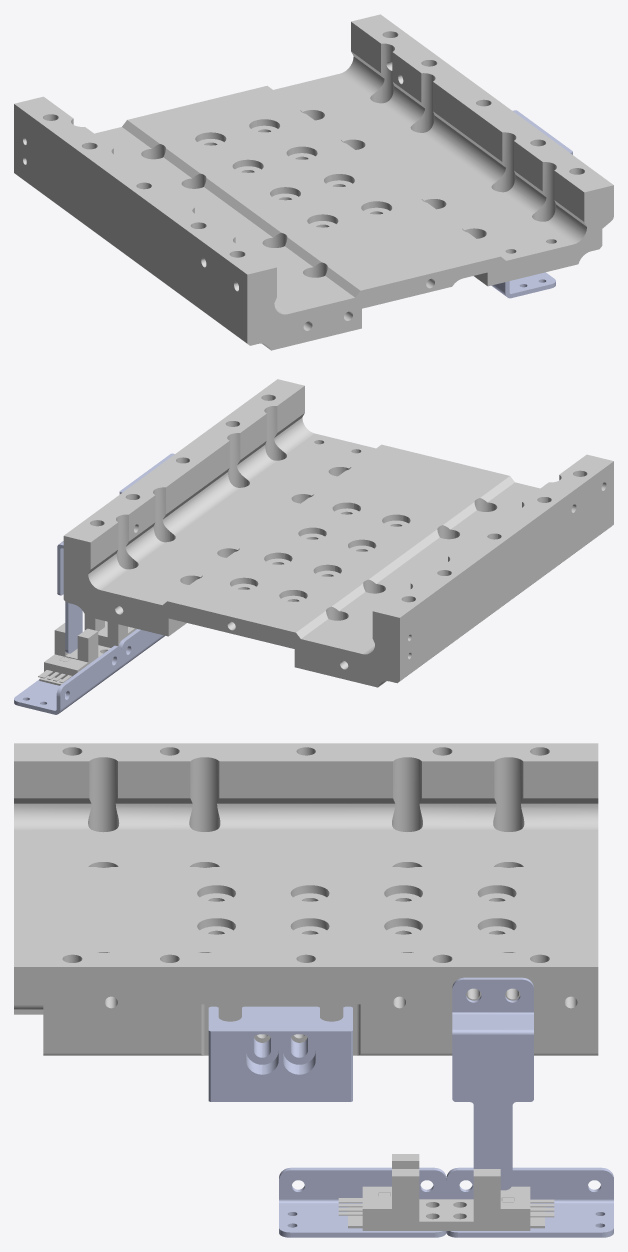
File: MTA-6.glb
3 renders of one model, top to bottom at view 1: azimuth 30°, elevation 25°; view 2: azimuth 150°, elevation 25°; view 3: azimuth 270°, elevation 25°, orthographic. The views are drawn at different scales.
Visible parts, largest first — view 1: 134X-12-MTA6-23091201_node, 134X-30-1_X2_5f0051735b8988c5652f67b6_X0_V1.0_node_1; view 2: 134X-12-MTA6-23091201_node, 134X-30-1_X2_5f0051735b8988c5652f67b6_X0_V1.0_node, SH-SL674_X2_5f005173_X0__node_1, 134X-31-1 _X2_59167f6e906e632194a391d1_X0_V1.0_node, SH-SL674_X2_5f005173_X0__node, 134X-30-1_X2_5f0051735b8988c5652f67b6_X0_V1.0_node_1; view 3: 134X-12-MTA6-23091201_node, 134X-101-5_X2_8bfb657059348fde63a55757_X0_V1.0_node, 134X-31-1 _X2_59167f6e906e632194a391d1_X0_V1.0_node, 134X-30-1_X2_5f0051735b8988c5652f67b6_X0_V1.0_node_1, 134X-30-1_X2_5f0051735b8988c5652f67b6_X0_V1.0_node, SH-SL674_X2_5f005173_X0__node, SH-SL674_X2_5f005173_X0__node_1.
Boxes of the visible parts, x1=… form: 134X-12-MTA6-23091201_node: x1=14, y1=14, x2=613, y2=350; 134X-30-1_X2_5f0051735b8988c5652f67b6_X0_V1.0_node_1: x1=491, y1=272, x2=555, y2=298; 134X-12-MTA6-23091201_node: x1=63, y1=379, x2=613, y2=687; 134X-30-1_X2_5f0051735b8988c5652f67b6_X0_V1.0_node: x1=14, y1=645, x2=121, y2=714; SH-SL674_X2_5f005173_X0__node_1: x1=38, y1=623, x2=100, y2=685; 134X-31-1 _X2_59167f6e906e632194a391d1_X0_V1.0_node: x1=57, y1=541, x2=82, y2=653; SH-SL674_X2_5f005173_X0__node: x1=77, y1=615, x2=136, y2=660; 134X-30-1_X2_5f0051735b8988c5652f67b6_X0_V1.0_node_1: x1=112, y1=629, x2=164, y2=667; 134X-12-MTA6-23091201_node: x1=14, y1=743, x2=598, y2=1055; 134X-101-5_X2_8bfb657059348fde63a55757_X0_V1.0_node: x1=208, y1=1006, x2=352, y2=1101; 134X-31-1 _X2_59167f6e906e632194a391d1_X0_V1.0_node: x1=452, y1=977, x2=533, y2=1190; 134X-30-1_X2_5f0051735b8988c5652f67b6_X0_V1.0_node_1: x1=279, y1=1167, x2=446, y2=1237; 134X-30-1_X2_5f0051735b8988c5652f67b6_X0_V1.0_node: x1=446, y1=1167, x2=613, y2=1237; SH-SL674_X2_5f005173_X0__node: x1=338, y1=1154, x2=446, y2=1230; SH-SL674_X2_5f005173_X0__node_1: x1=446, y1=1169, x2=554, y2=1230.
Size of the model in its own units: 155 by 67.8 by 154.
